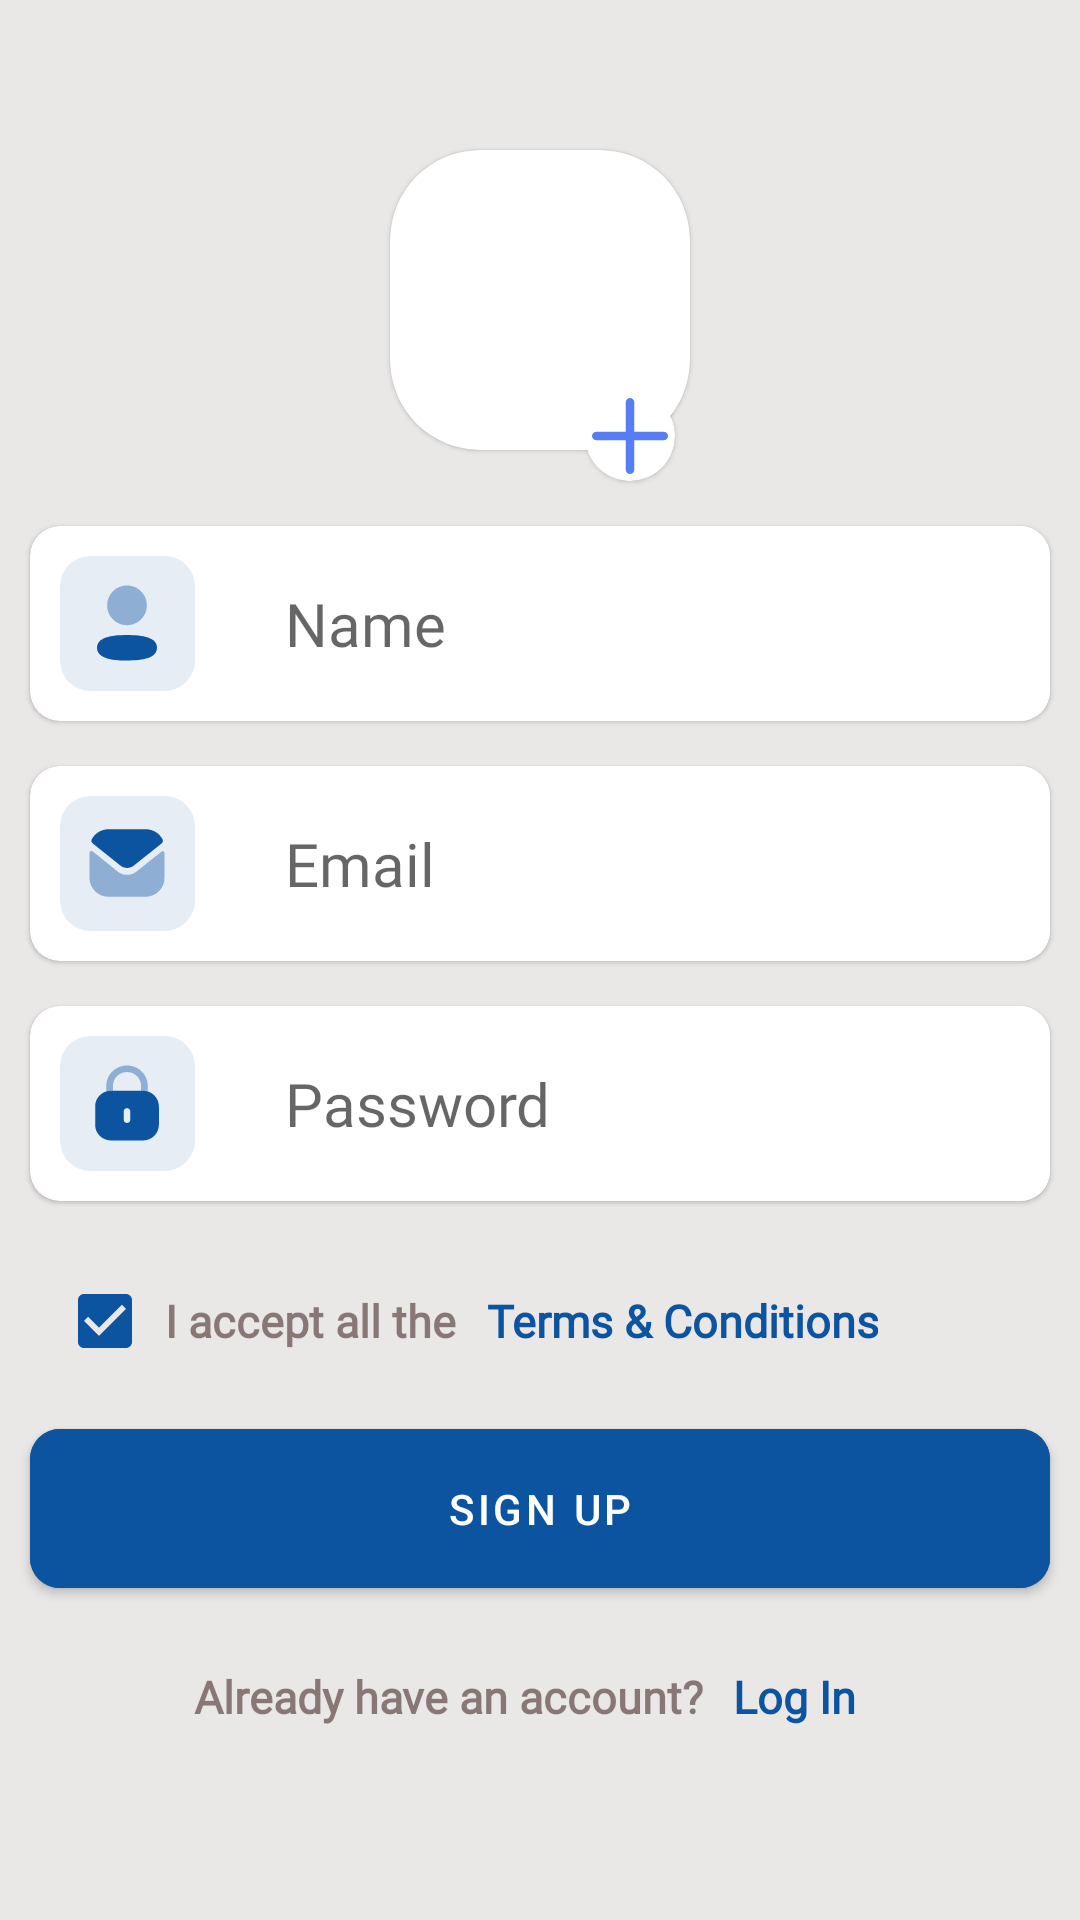

Screen size 1080px x 1920px. Icon name, then its center in pixels as (x,y):
lock: (127,1103)
message: (127,863)
plus: (630,436)
profile: (127,623)
